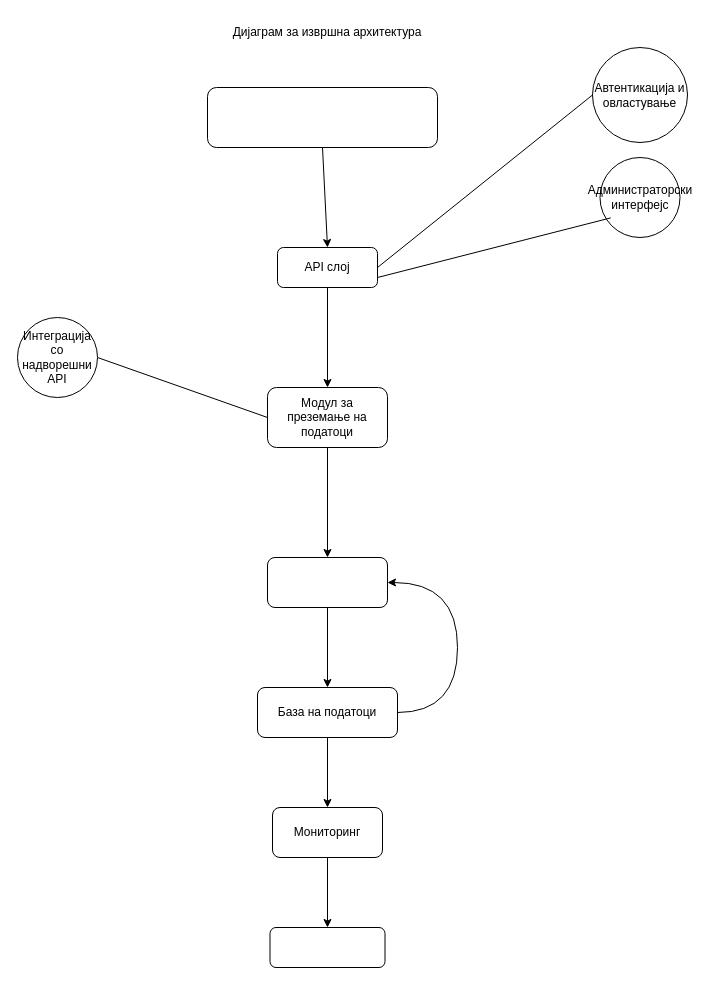
This 710x985 diagram has some shape labels left out. Here are the shapes that lost their labels. From the top down, the box of each, then its label:
(206, 86, 438, 148): Кориснички интерфејс
(266, 556, 388, 608): Модул за анализа
(269, 926, 385, 968): Логирање
